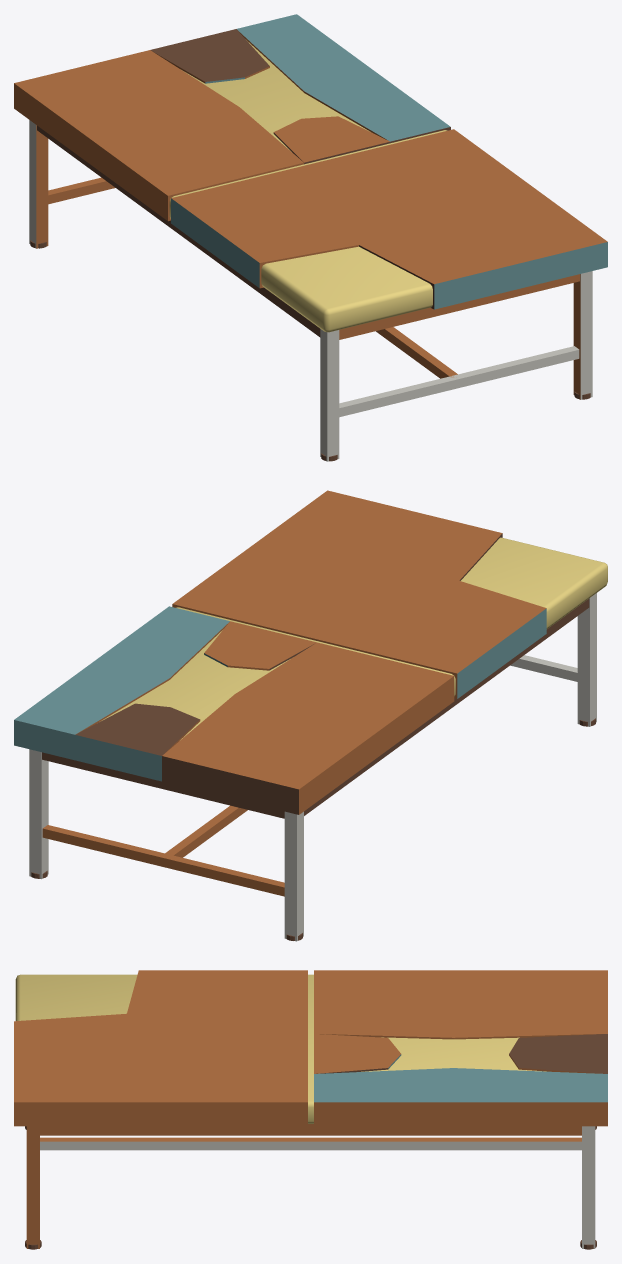
Rendered from Rehabilitation_Room_bed2.fbx.
3 views of the same model, one above another, from view 1: azimuth 30°, elevation 25°; view 2: azimuth 150°, elevation 25°; view 3: azimuth 270°, elevation 25° (orthographic). The views are drawn at different scales.
Parts seen in each view (by area): view 1: 06_BobathTable_Damaged_Mesh; view 2: 06_BobathTable_Damaged_Mesh; view 3: 06_BobathTable_Damaged_Mesh.
Boxes of the visible parts, box(x1,y1,x2,y2) form: 06_BobathTable_Damaged_Mesh: box(14, 14, 607, 461); 06_BobathTable_Damaged_Mesh: box(14, 490, 607, 941); 06_BobathTable_Damaged_Mesh: box(14, 970, 607, 1249).
Size of the model in its own units: 105 by 56 by 200.
